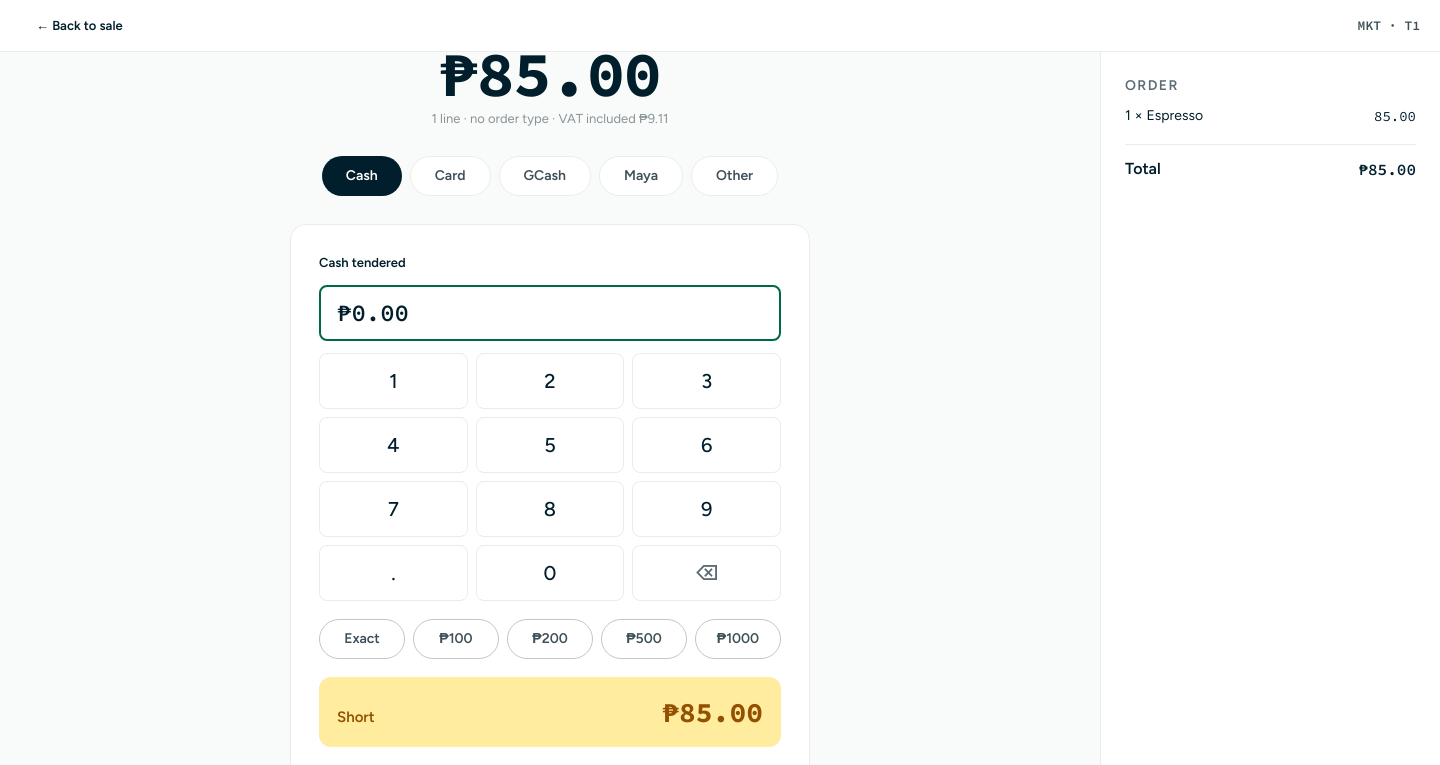
Test: quick-tender pills stack, and Exact resets to the amount due
Click the button "₱100". click: (456, 638)
box: x1=413 y1=618 x2=499 y2=658
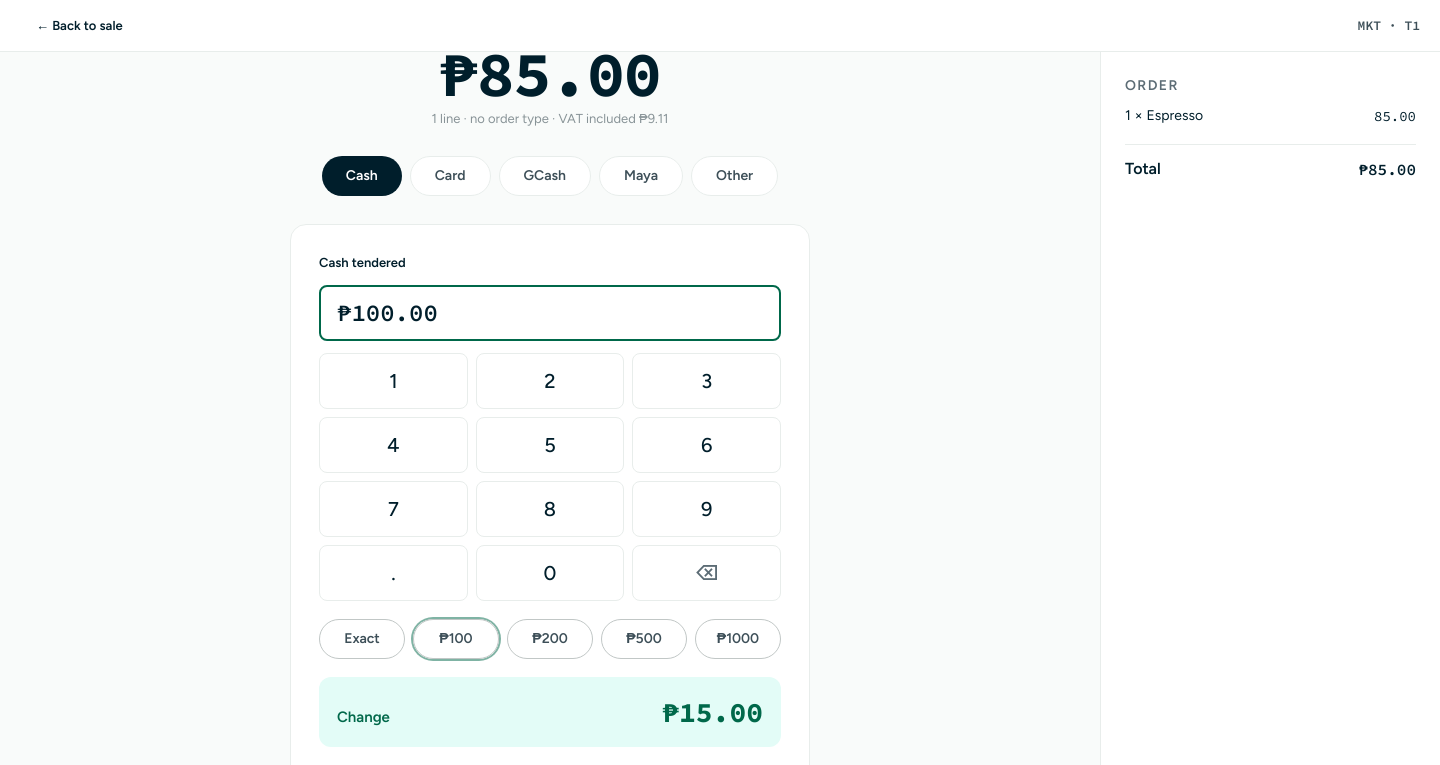
Click the button "₱100". click: (456, 638)
box: x1=413 y1=618 x2=499 y2=658
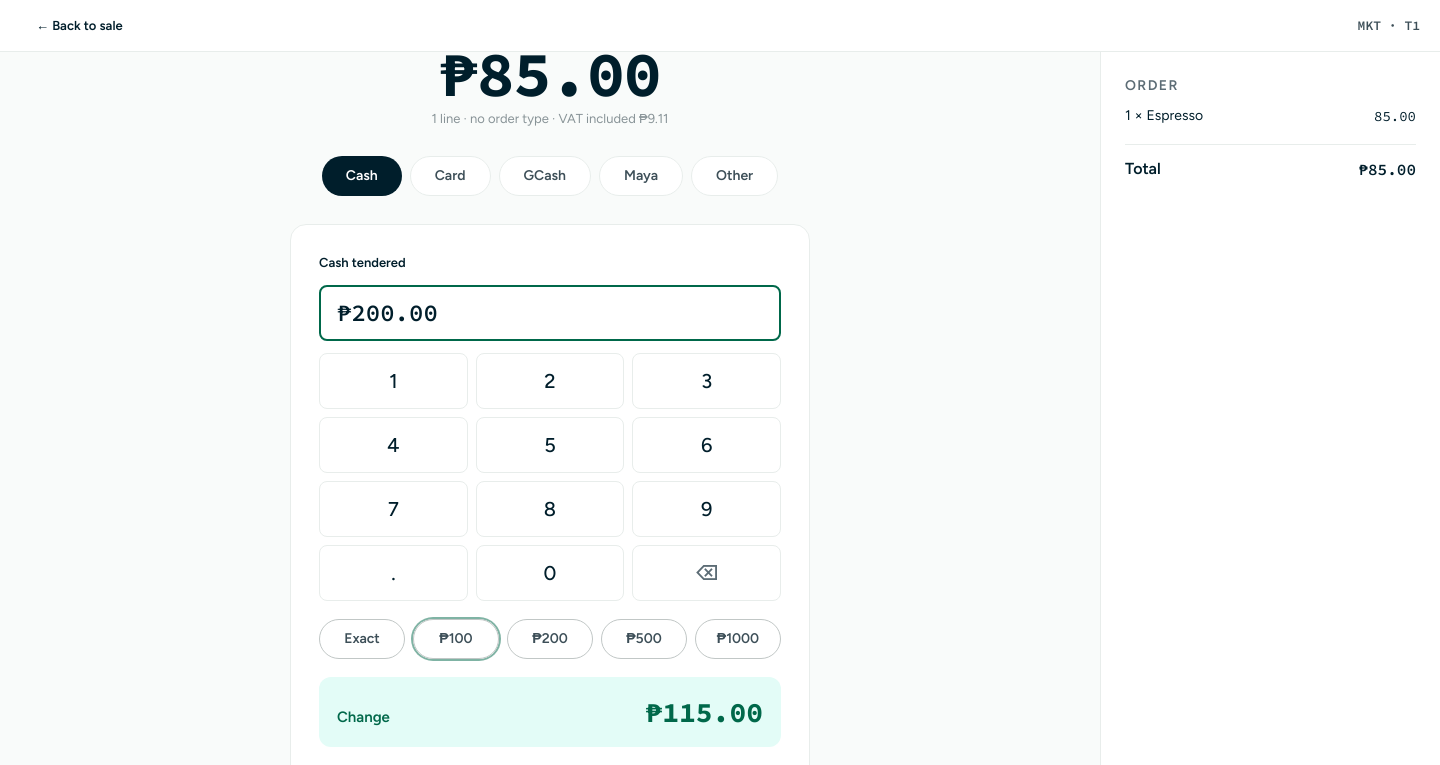
Check: the text "₱115.00" is shown, box x1=645 y1=690 x2=763 y2=732
Click the button "Exact". click: (362, 638)
box: x1=319 y1=618 x2=405 y2=658
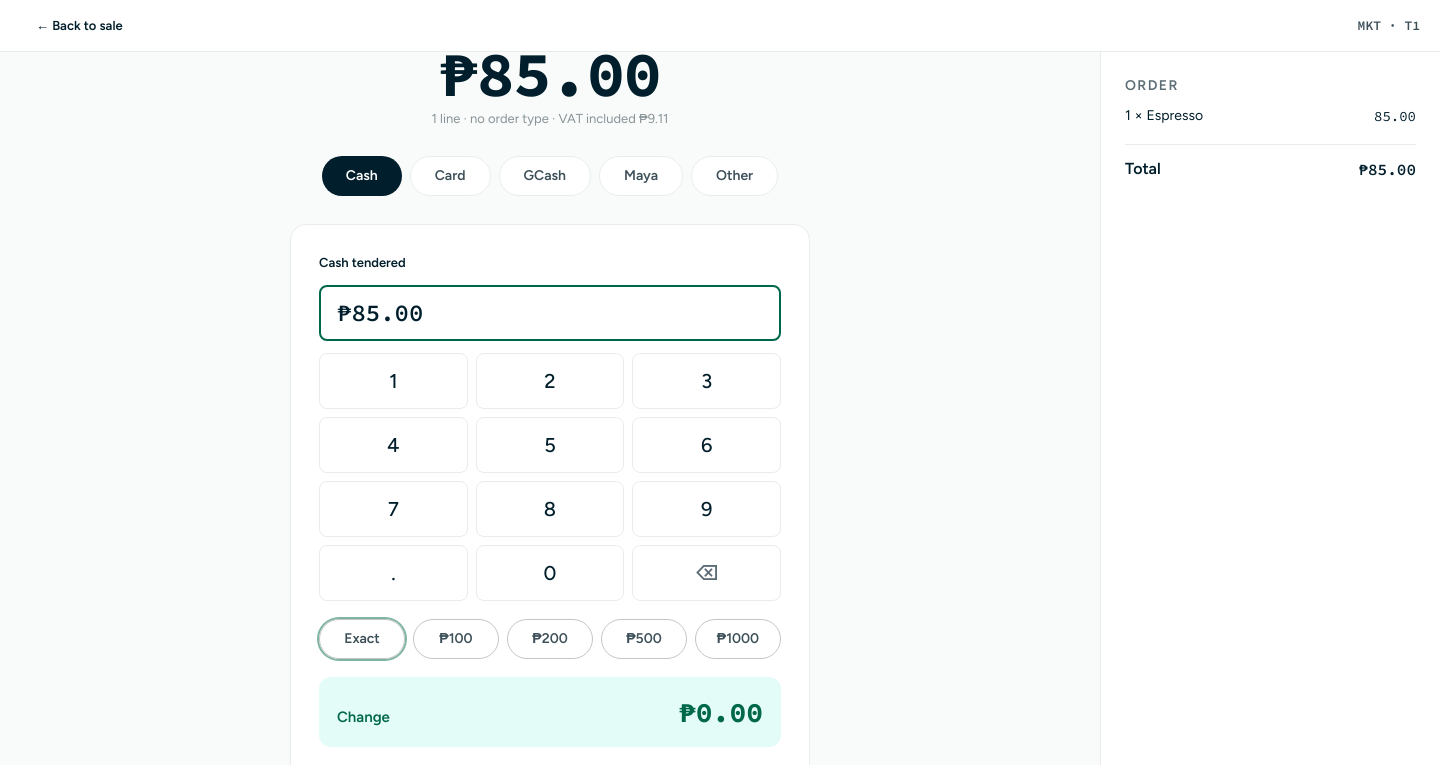
Check: the text "₱0.00" is shown, box x1=679 y1=690 x2=763 y2=732
